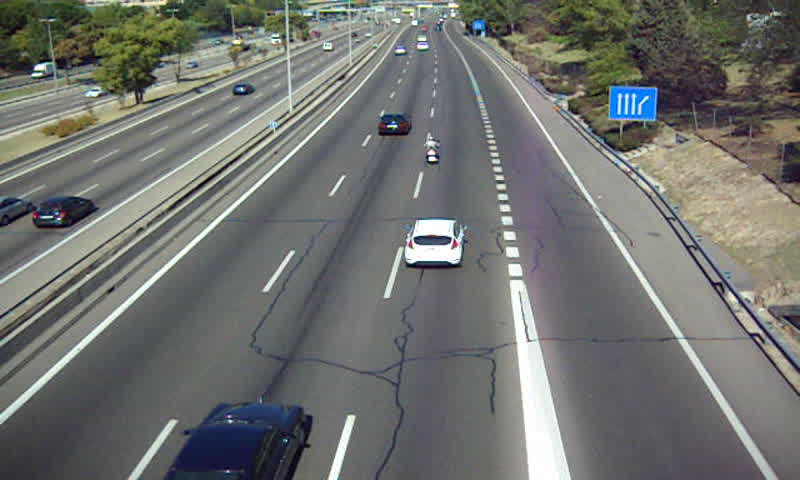car: (164, 403, 304, 480), (405, 219, 463, 266), (378, 112, 412, 136)
motorcycle: (422, 136, 442, 164)
